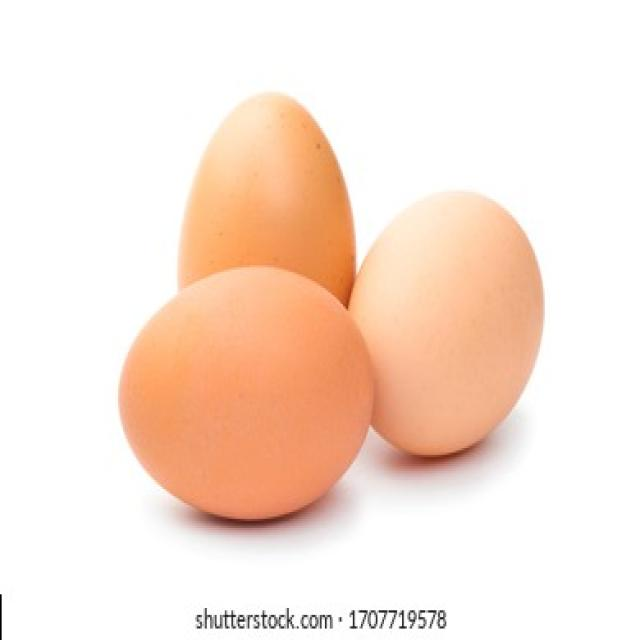Brown Egg: (117, 262, 375, 524), (354, 184, 546, 463), (172, 81, 358, 312)
